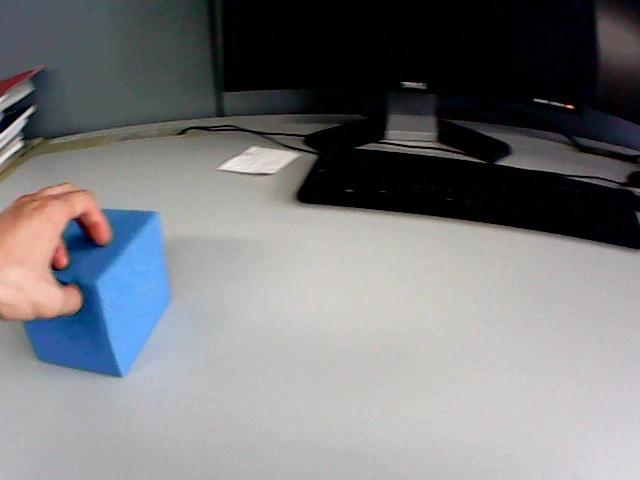blue_block: (25, 210, 170, 375)
